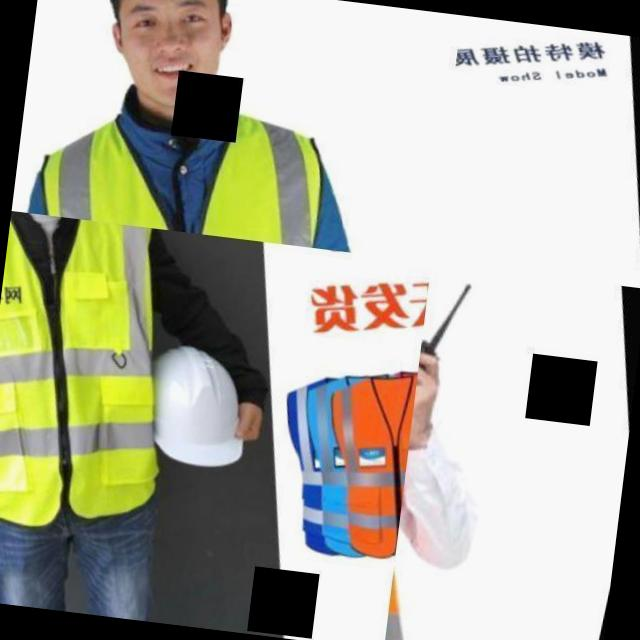vest: (15, 62, 428, 260), (0, 210, 229, 567), (383, 316, 494, 640), (310, 360, 418, 573)
